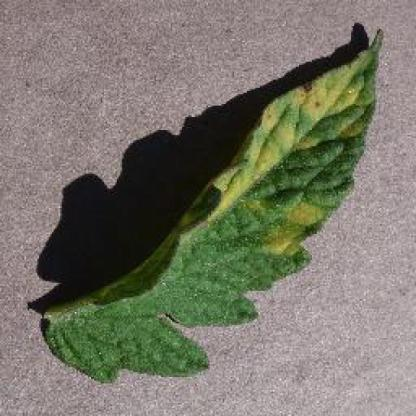Tomato_Leaf_Mold: (47, 29, 386, 385)
